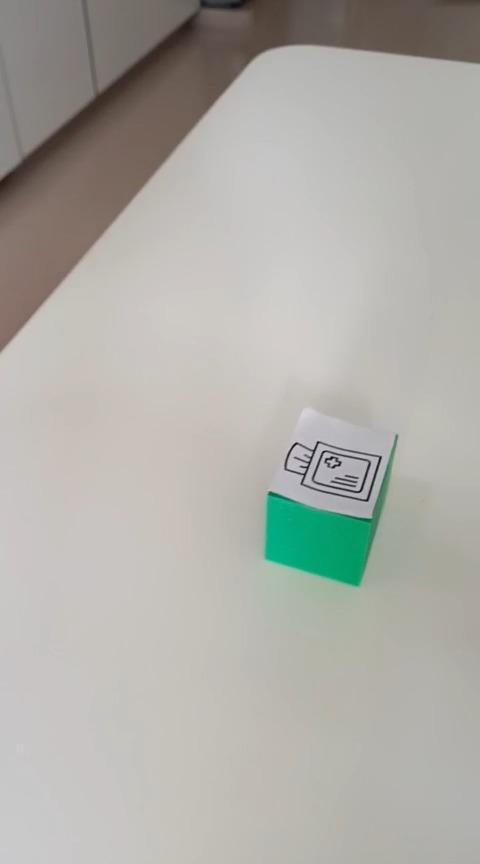Gauze: (262, 405, 398, 587)
